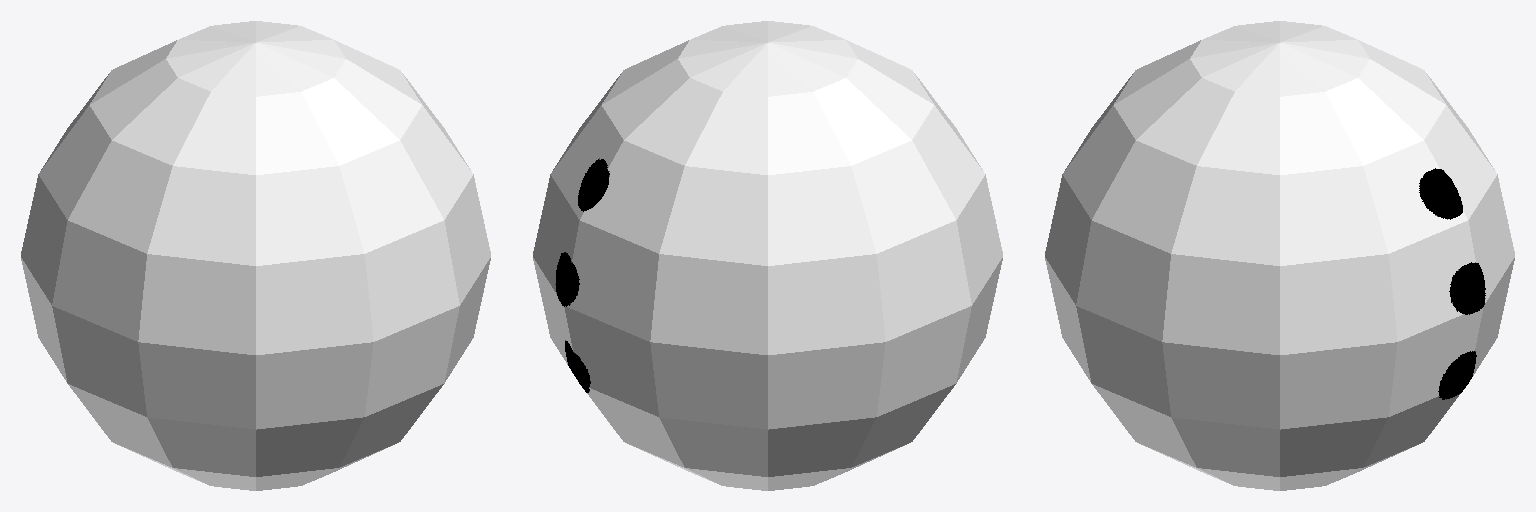
The picture shows the model from 3 angles: view 1: azimuth 30°, elevation 25°; view 2: azimuth 150°, elevation 25°; view 3: azimuth 270°, elevation 25°; orthographic projection.
Visible parts, largest first — view 1: pSphere1; view 2: pSphere1; view 3: pSphere1.
Boxes of the visible parts, x1=… form: pSphere1: x1=21, y1=21, x2=490, y2=490; pSphere1: x1=533, y1=21, x2=1002, y2=490; pSphere1: x1=1045, y1=21, x2=1514, y2=490.
Size of the model in its own units: 2 by 2 by 2.
1 materials, 1 textured.